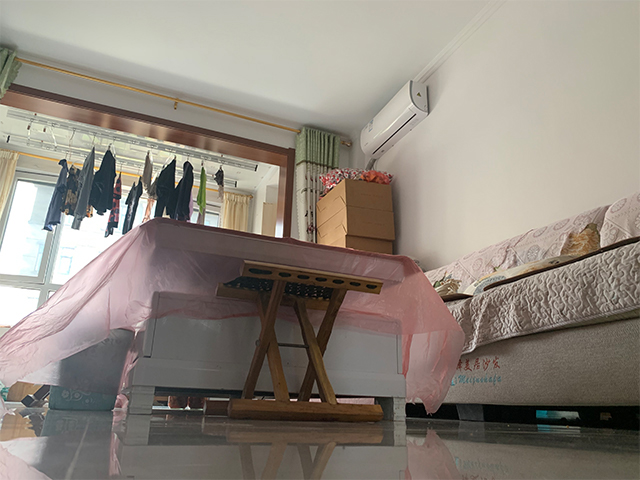sofa: (423, 191, 640, 422)
stool: (202, 259, 386, 422)
table: (121, 216, 421, 422)
trashcan: (48, 326, 136, 414)
